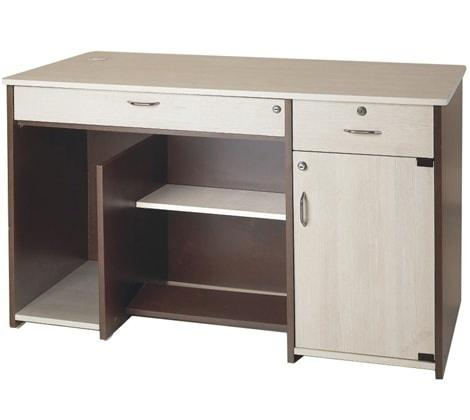cabinet_door: (293, 154, 432, 351), (16, 91, 289, 126), (291, 106, 432, 155)
handle: (343, 125, 385, 140), (297, 190, 310, 229), (125, 98, 160, 110)
